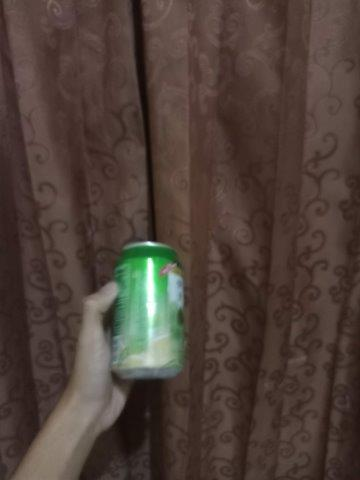kaleng: (110, 242, 185, 380)
